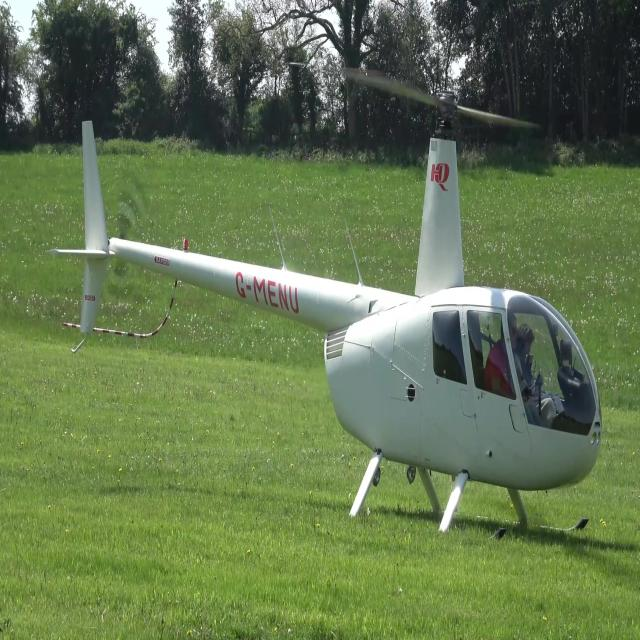CIV_HELO: (45, 89, 603, 554)
